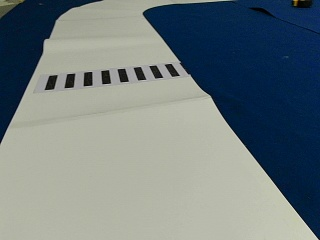crosswalk: (42, 64, 178, 89)
